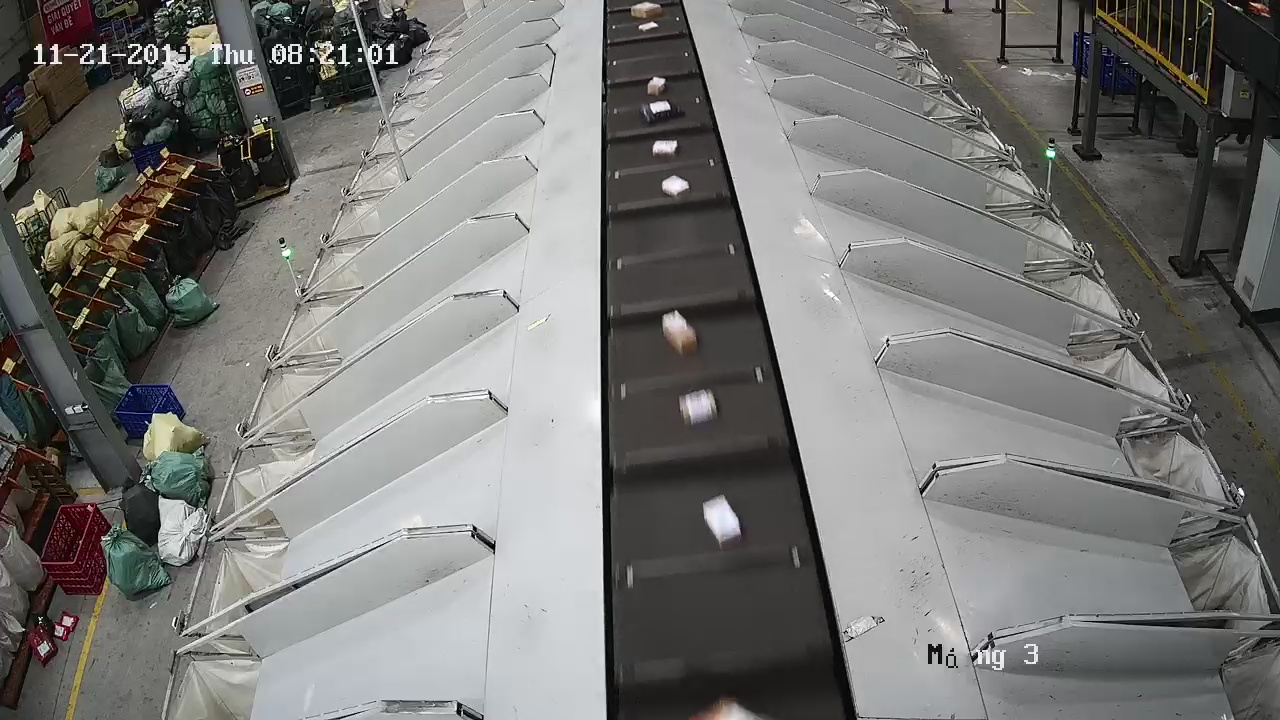parcel: (701, 490, 747, 552), (676, 385, 719, 429), (662, 311, 699, 358)
